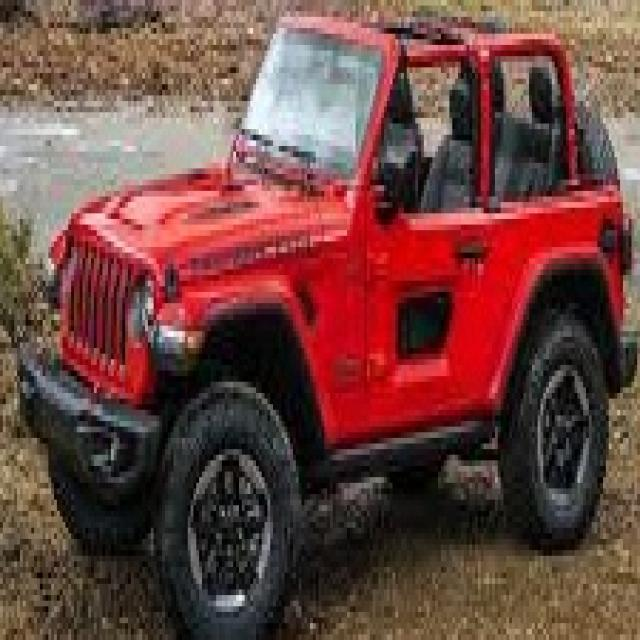red: (34, 5, 640, 640)
